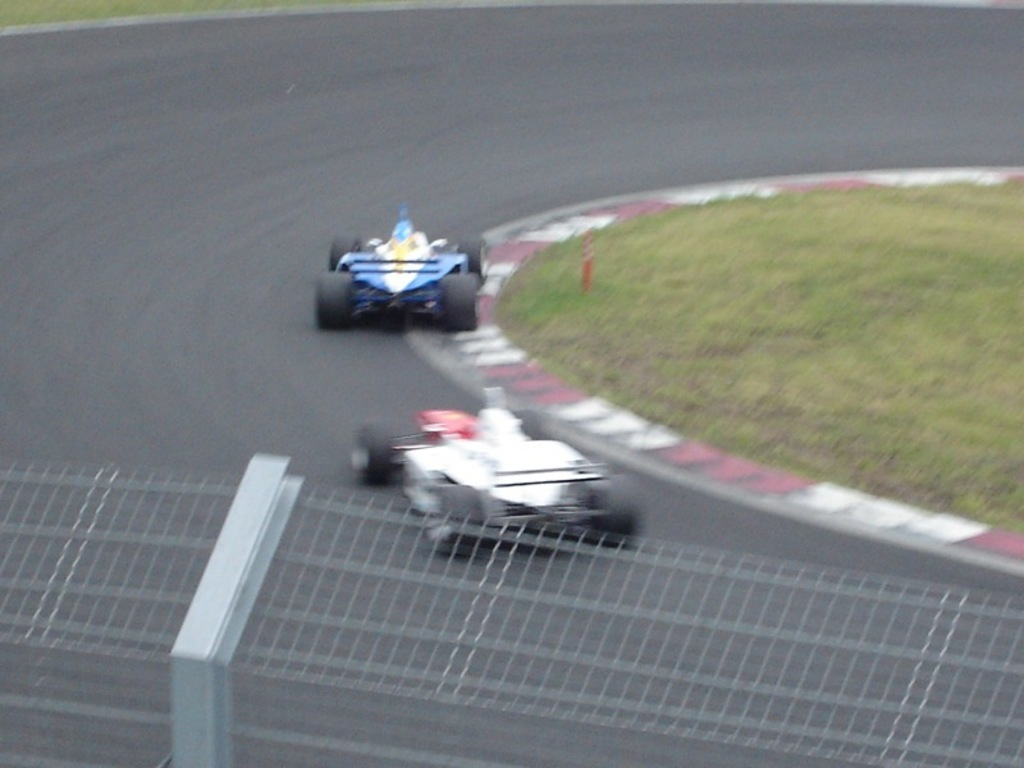mobil: (339, 400, 642, 553), (314, 208, 479, 330)
